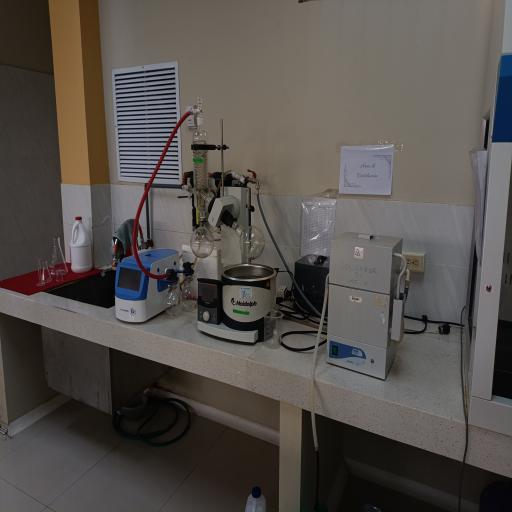Destilador_agua: (322, 215, 418, 393)
